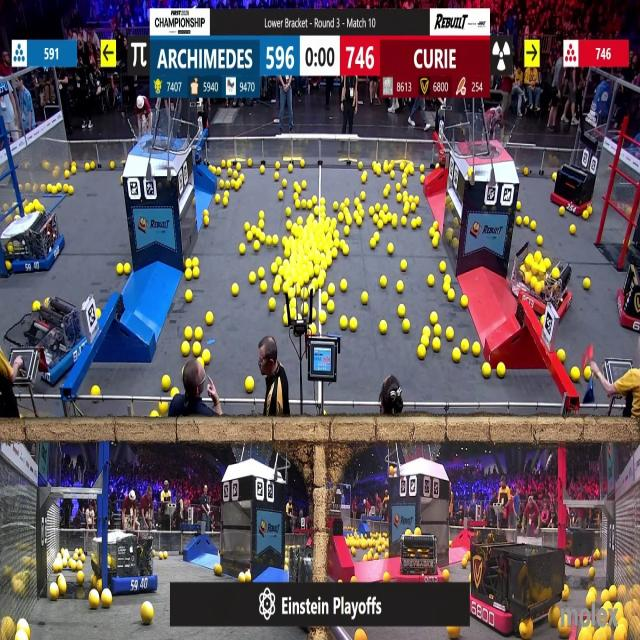ball_ground: (142, 602, 153, 623), (90, 591, 101, 609), (101, 591, 112, 608), (448, 626, 460, 640), (496, 362, 506, 377), (49, 585, 58, 601), (483, 362, 492, 377), (163, 376, 172, 391), (59, 580, 68, 595), (245, 378, 254, 392), (471, 343, 480, 357), (608, 587, 616, 602), (184, 326, 193, 339), (182, 343, 190, 357), (380, 320, 388, 334), (203, 350, 211, 364), (562, 587, 570, 601), (460, 342, 469, 354), (349, 318, 357, 331), (184, 289, 192, 302), (192, 343, 200, 356), (432, 339, 440, 352), (418, 346, 426, 359), (570, 367, 578, 380), (194, 327, 202, 339), (326, 302, 334, 314), (460, 295, 468, 307), (453, 349, 461, 361), (310, 324, 318, 336), (395, 282, 403, 294), (76, 571, 84, 583), (161, 401, 169, 413), (206, 313, 213, 326), (341, 316, 348, 329), (249, 273, 257, 284), (214, 564, 222, 575), (93, 385, 101, 396), (115, 265, 123, 276), (433, 324, 440, 336), (361, 291, 368, 303), (233, 283, 240, 295), (429, 312, 436, 324), (584, 278, 591, 290), (447, 327, 454, 339), (397, 306, 404, 318), (259, 282, 266, 294), (444, 568, 451, 580), (341, 280, 348, 292), (274, 283, 282, 293), (256, 234, 264, 244), (402, 319, 408, 332), (257, 269, 264, 280), (558, 350, 565, 361), (327, 284, 334, 295), (448, 290, 455, 301), (282, 283, 289, 294), (381, 276, 387, 288), (428, 275, 434, 287), (123, 264, 129, 276), (272, 266, 280, 275), (320, 312, 326, 324), (585, 367, 591, 379), (307, 216, 315, 225), (383, 571, 390, 581), (191, 269, 198, 279), (240, 572, 247, 582), (331, 202, 338, 212), (304, 275, 311, 285), (570, 223, 576, 234), (441, 263, 447, 274), (388, 243, 394, 254), (240, 243, 246, 254), (284, 315, 290, 326), (270, 300, 276, 311), (314, 267, 320, 278), (229, 182, 235, 193), (291, 226, 297, 237), (423, 326, 430, 335), (246, 233, 253, 242), (67, 184, 74, 193), (319, 271, 326, 280), (400, 262, 406, 272), (185, 270, 191, 280), (331, 248, 337, 258), (304, 306, 310, 316), (253, 242, 259, 252), (273, 236, 279, 246), (402, 205, 408, 215), (517, 216, 523, 226), (344, 225, 350, 235), (584, 210, 590, 220), (340, 212, 346, 222), (346, 215, 352, 225), (321, 292, 327, 302), (268, 236, 274, 246), (445, 283, 451, 293), (589, 567, 595, 577), (422, 337, 428, 347), (314, 206, 320, 216), (304, 288, 310, 298), (290, 310, 296, 320), (312, 278, 318, 288), (5, 263, 11, 273), (244, 222, 251, 230), (276, 256, 283, 264), (251, 223, 258, 231), (452, 240, 459, 248), (34, 302, 40, 311), (369, 240, 375, 249), (258, 210, 264, 219), (530, 220, 536, 229), (536, 237, 542, 246), (524, 216, 530, 225), (296, 216, 302, 225), (356, 217, 362, 226), (517, 202, 523, 211), (191, 257, 197, 266), (258, 219, 264, 228), (286, 220, 292, 229), (412, 204, 418, 213), (284, 249, 290, 258), (282, 237, 288, 246), (354, 199, 360, 208), (185, 258, 191, 267), (396, 192, 402, 201), (378, 220, 384, 229), (375, 233, 381, 242), (286, 208, 292, 217), (318, 279, 324, 288), (595, 551, 601, 560), (390, 171, 396, 180), (295, 287, 301, 296), (339, 203, 345, 212), (344, 246, 349, 256), (401, 216, 406, 226), (205, 216, 210, 226), (417, 218, 422, 228), (312, 310, 317, 320), (392, 218, 397, 228), (290, 298, 296, 306), (396, 183, 402, 191), (420, 166, 426, 174), (151, 412, 157, 420), (283, 306, 289, 314), (445, 276, 451, 284), (110, 163, 116, 171), (91, 162, 97, 170), (402, 192, 408, 200), (308, 201, 314, 209), (303, 180, 309, 188), (233, 171, 239, 179), (335, 232, 341, 240), (276, 276, 282, 284), (220, 162, 226, 170), (462, 559, 468, 567), (225, 162, 231, 170), (46, 184, 52, 192), (331, 218, 337, 226), (409, 194, 415, 202), (584, 559, 590, 567), (236, 181, 241, 190), (432, 239, 437, 248), (361, 174, 366, 183), (275, 172, 280, 181), (279, 190, 284, 199), (341, 240, 346, 249), (294, 201, 299, 210), (326, 257, 331, 266), (224, 180, 229, 189), (294, 183, 299, 192), (383, 215, 388, 224), (284, 257, 289, 266), (371, 216, 377, 223), (295, 314, 301, 321), (379, 212, 385, 219), (210, 167, 216, 174), (259, 167, 264, 175), (524, 168, 529, 176), (360, 191, 365, 199), (222, 199, 227, 207), (368, 208, 373, 216), (215, 194, 220, 202), (84, 163, 89, 171), (345, 200, 350, 208), (65, 171, 70, 179), (276, 163, 281, 171), (320, 199, 325, 207), (299, 161, 304, 169), (219, 180, 224, 188), (282, 180, 287, 188), (358, 162, 363, 170), (237, 164, 242, 172), (320, 206, 325, 214), (376, 204, 381, 212), (327, 240, 332, 248), (58, 183, 63, 191), (359, 210, 364, 218), (432, 221, 437, 229), (240, 175, 245, 183), (227, 169, 232, 177), (433, 232, 438, 240), (97, 310, 102, 318), (284, 558, 289, 566), (575, 560, 579, 569), (294, 193, 298, 202), (351, 575, 356, 582), (420, 176, 425, 183), (313, 198, 318, 205), (216, 168, 221, 175), (385, 183, 390, 190), (354, 211, 359, 218), (560, 208, 564, 216), (384, 188, 388, 196), (402, 179, 406, 187), (288, 165, 292, 173), (165, 552, 169, 560), (411, 168, 415, 176), (223, 190, 228, 196), (72, 168, 76, 175), (248, 161, 252, 168), (205, 209, 209, 216), (416, 195, 420, 202), (384, 205, 388, 212), (119, 177, 123, 184), (339, 578, 343, 584), (385, 554, 389, 560)
goal: (460, 120, 517, 158), (128, 116, 186, 152)
robot_blue: (39, 302, 91, 388), (0, 201, 62, 272), (109, 533, 158, 595)
robot_red: (467, 541, 559, 633), (513, 253, 572, 319), (552, 155, 595, 213), (400, 530, 443, 584), (562, 516, 590, 569), (619, 264, 640, 333)
